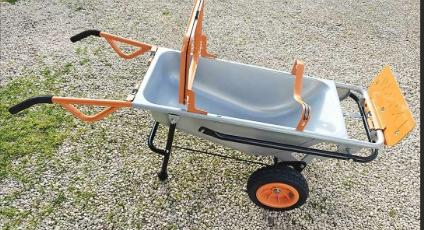BROUETTE: (7, 2, 418, 210)
